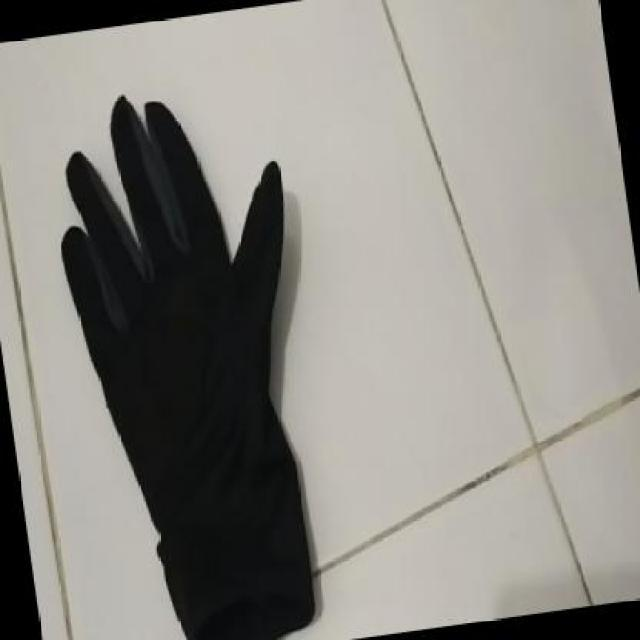Gloves: (56, 89, 320, 640)
